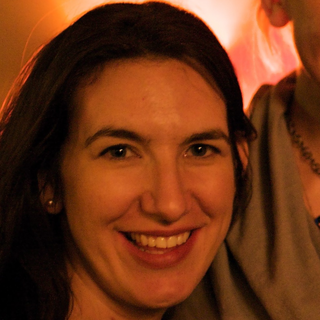eye: (94, 140, 145, 164), (173, 141, 224, 162)
